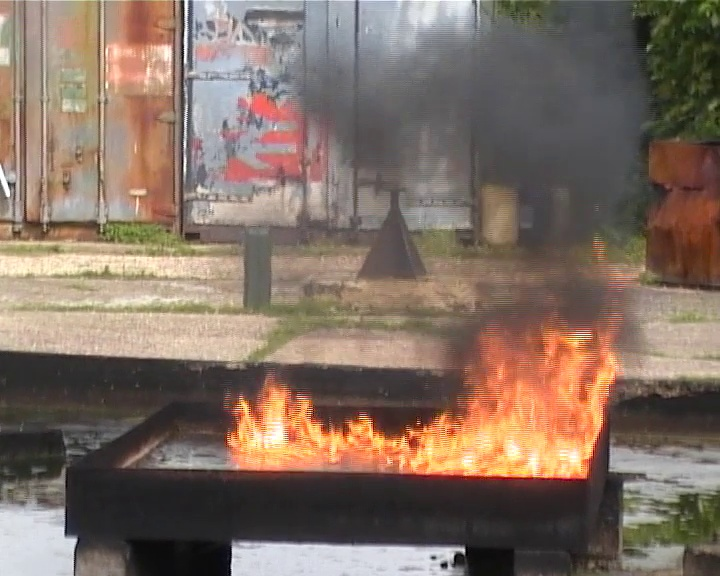fire: (230, 322, 615, 477)
